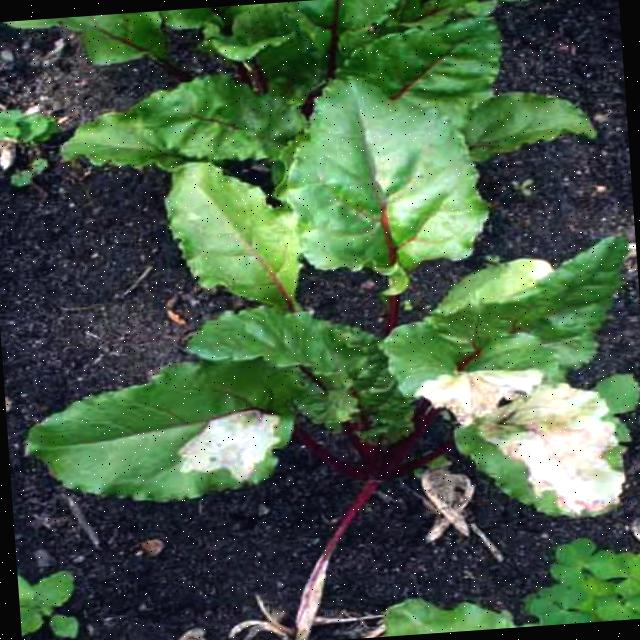rotten spinach: (339, 249, 640, 543), (232, 70, 530, 324), (22, 348, 361, 520)
